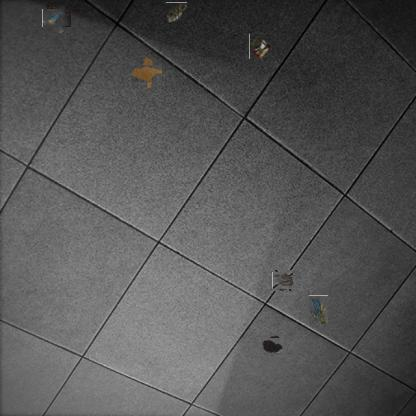dirty: (249, 33, 272, 59), (308, 295, 328, 324), (45, 7, 68, 30), (166, 2, 187, 24), (273, 271, 293, 290)
liquid: (135, 61, 159, 85), (263, 336, 283, 356)
